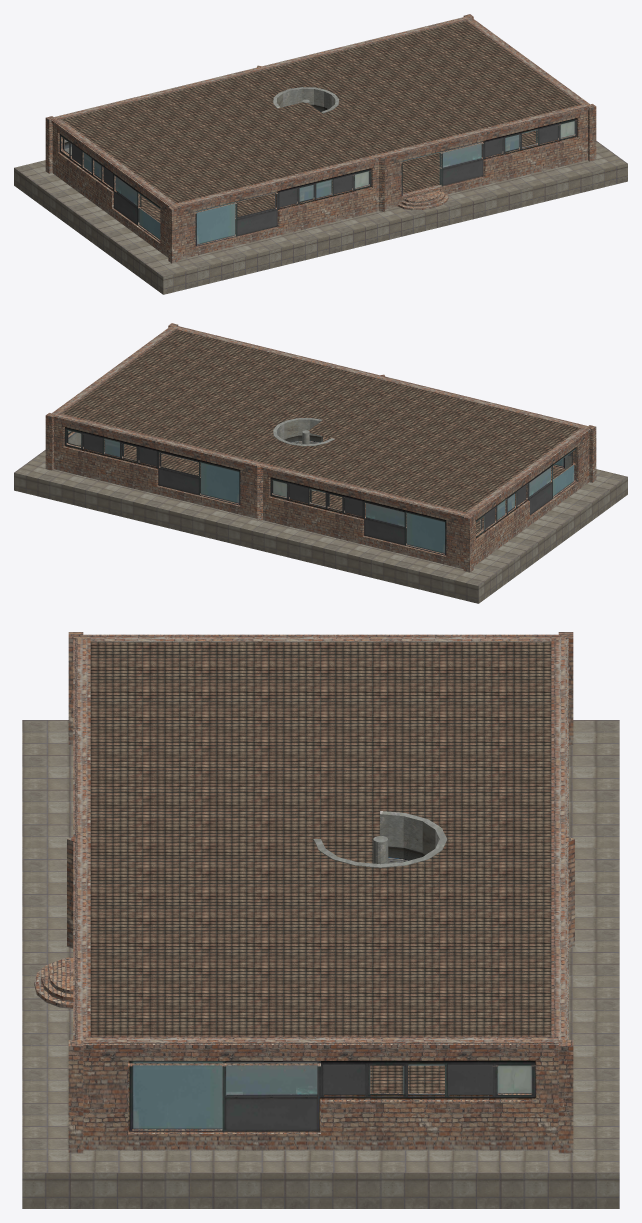
The model's file is BagSS11base_300.fbx.
3 renders of one model, top to bottom at view 1: azimuth 30°, elevation 25°; view 2: azimuth 150°, elevation 25°; view 3: azimuth 270°, elevation 25°, orthographic. The views are drawn at different scales.
Parts seen in each view (by area): view 1: baseFloor500, baseMain500, baseFound500, baseWallCrete500; view 2: baseFloor500, baseMain500, baseFound500, baseWallCrete500; view 3: baseFloor500, baseMain500, baseFound500, baseWallCrete500.
Boxes of the visible parts, x1,y1,x2,y2 form: baseFloor500: (61,21,580,221); baseMain500: (45,14,596,263); baseFound500: (14,141,627,294); baseWallCrete500: (61,20,580,155); baseFloor500: (61,330,580,533); baseMain500: (45,323,596,572); baseFound500: (14,450,627,603); baseWallCrete500: (61,329,580,490); baseFloor500: (90,642,551,1092); baseMain500: (34,632,574,1153); baseFound500: (22,720,619,1208); baseWallCrete500: (91,641,550,867).
Bounding box in the file's own units: 185 × 27.23 × 103.
